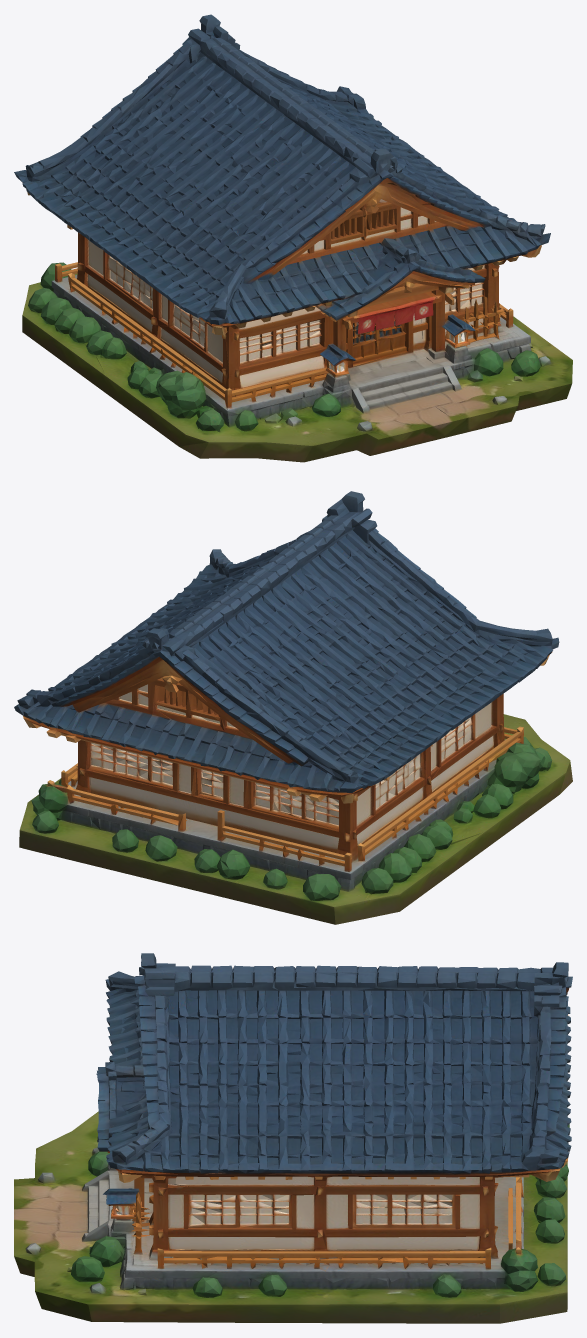
3 renders of one model, top to bottom at view 1: azimuth 30°, elevation 25°; view 2: azimuth 150°, elevation 25°; view 3: azimuth 270°, elevation 25°, orthographic. The views are drawn at different scales.
Visible parts, largest first — view 1: model; view 2: model; view 3: model.
Part boxes in pixels (box(x1,y1,x2,y2)): model: box(14, 14, 572, 462); model: box(14, 491, 572, 924); model: box(14, 953, 572, 1323).
Bounding box in the file's own units: 1.62 × 1.04 × 1.9.
Materials: 1 (1 with a texture image).
